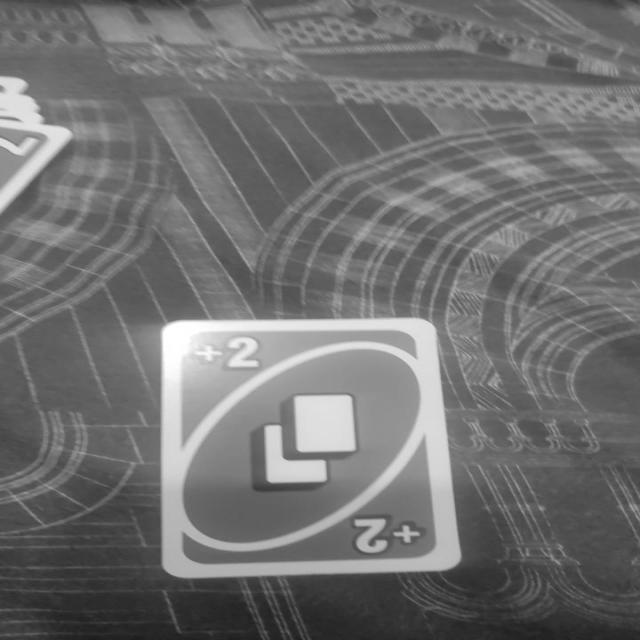card_2-: (158, 316, 462, 578)
